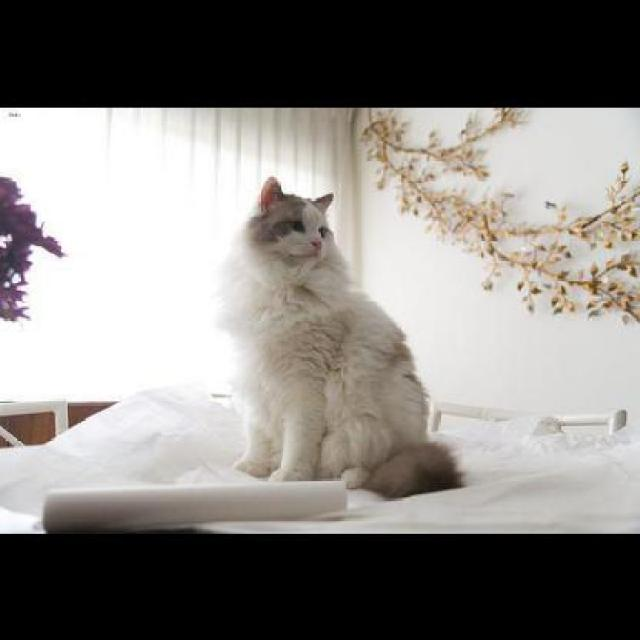unauthorized: (213, 174, 464, 498)
